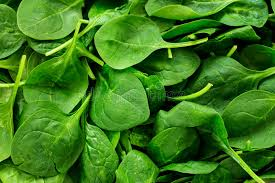spinach: (19, 13, 241, 173)
